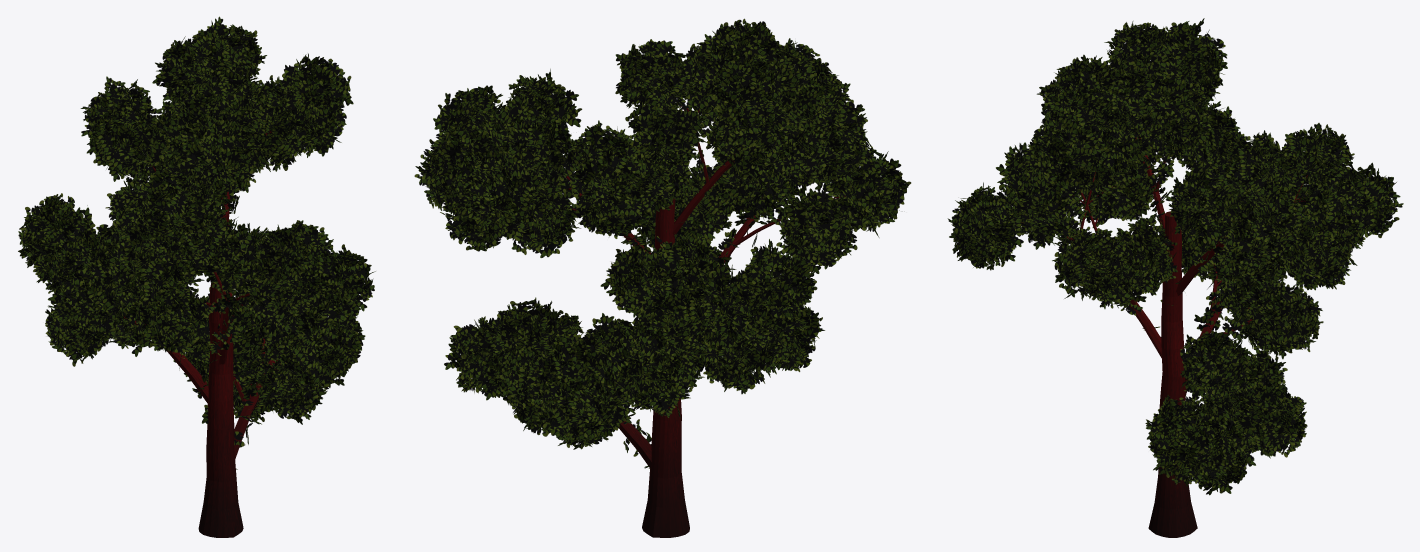
The model's file is evergreen_broad_v01.glb.
The picture shows the model from 3 angles, left to right: view 1: azimuth 30°, elevation 25°; view 2: azimuth 150°, elevation 25°; view 3: azimuth 270°, elevation 25°; orthographic projection. The views are drawn at different scales.
Visible parts, largest first — view 1: evergreen_broad_v01; view 2: evergreen_broad_v01; view 3: evergreen_broad_v01.
Part boxes in pixels (bbox=[...]): evergreen_broad_v01: bbox=[18, 16, 375, 537]; evergreen_broad_v01: bbox=[414, 18, 911, 537]; evergreen_broad_v01: bbox=[947, 18, 1403, 537].
Size of the model in its own units: 14.64 by 19.34 by 17.33.
Materials: 2 (2 with a texture image).
